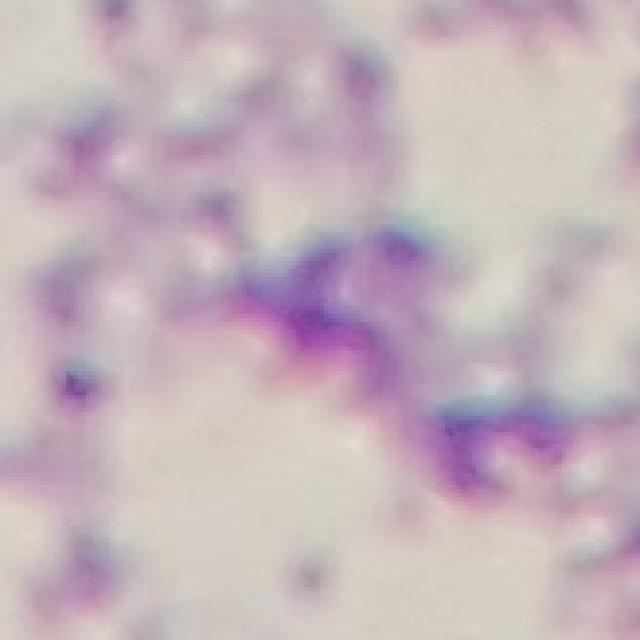non-sperm: (178, 156, 514, 479)
